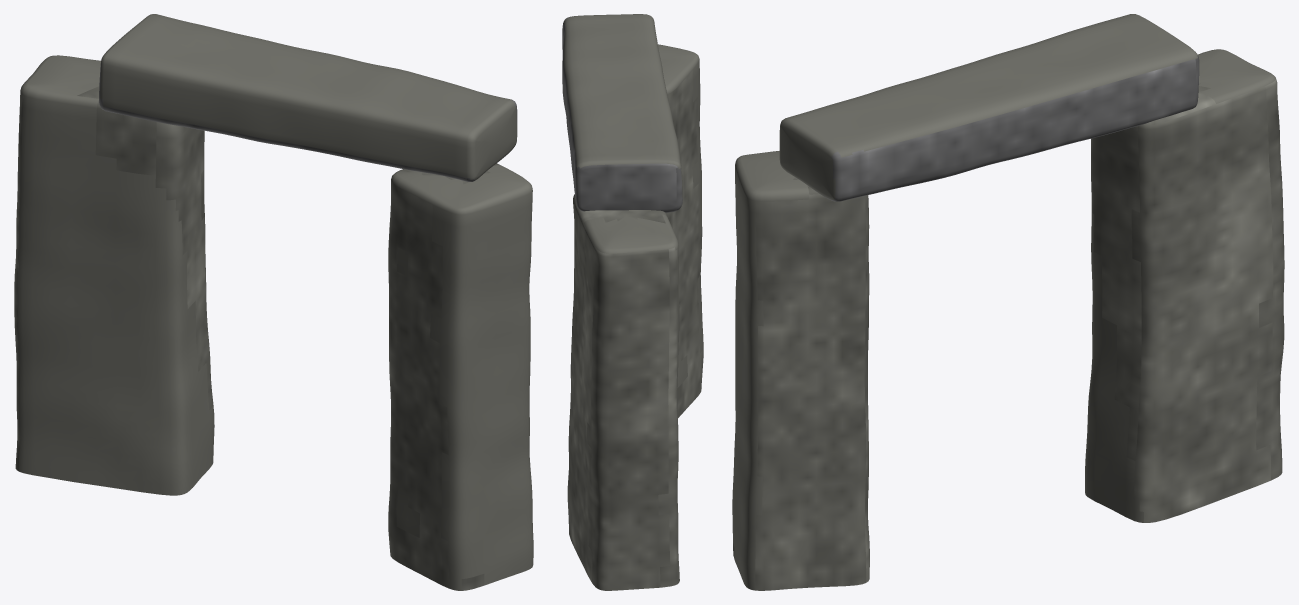
Rendered from AraHenge09.glb.
3 renders of one model, left to right at view 1: azimuth 30°, elevation 25°; view 2: azimuth 150°, elevation 25°; view 3: azimuth 270°, elevation 25°, orthographic. The views are drawn at different scales.
Visible parts, largest first — view 1: AraHenge09; view 2: AraHenge09; view 3: AraHenge09.
Part boxes in pixels (x1,y1,x2,y2): AraHenge09: (14,14,533,590); AraHenge09: (562,14,703,590); AraHenge09: (732,14,1284,590).
Size of the model in its own units: 2.72 by 3.63 by 3.98.
Materials: 2 (1 with a texture image).
